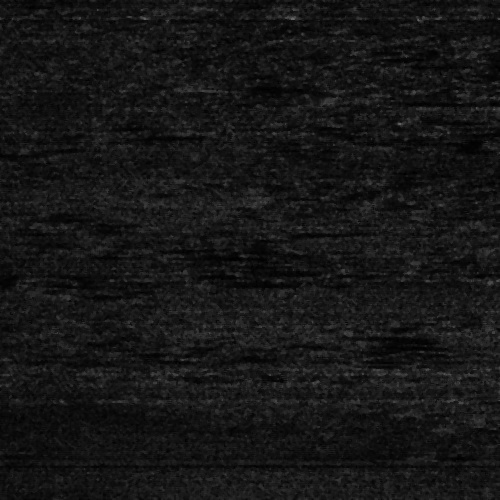object: (317, 96, 400, 105), (166, 81, 259, 88), (191, 278, 244, 285), (104, 133, 157, 138)
shadow: (359, 96, 463, 105), (213, 81, 286, 88), (218, 278, 288, 285), (131, 133, 213, 138)
